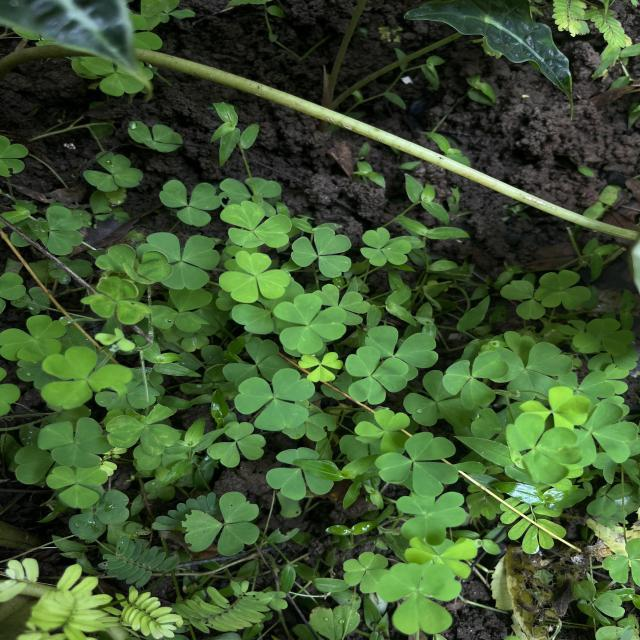Oxalis corniculata: (39, 345, 133, 410), (374, 431, 460, 498), (232, 367, 316, 432), (180, 491, 260, 556), (136, 232, 220, 290), (274, 293, 348, 354), (105, 402, 181, 458), (37, 416, 115, 469), (442, 350, 510, 410), (264, 446, 336, 501), (344, 345, 410, 405), (218, 250, 290, 304), (396, 492, 467, 546), (218, 200, 292, 250), (291, 226, 354, 278), (158, 178, 222, 228), (519, 385, 590, 430), (0, 314, 66, 362), (206, 421, 268, 469), (354, 408, 412, 454), (46, 466, 108, 508), (84, 150, 144, 193), (572, 317, 636, 357), (532, 269, 592, 311), (360, 227, 412, 267), (342, 551, 390, 594), (299, 352, 344, 384)
